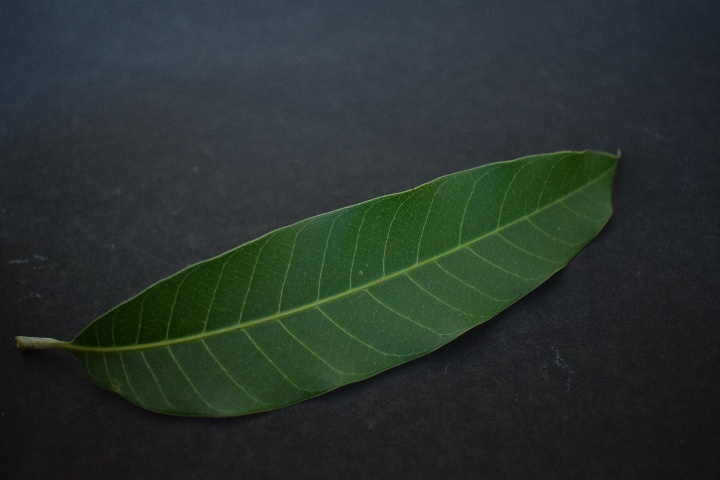healthy: (46, 149, 665, 416)
